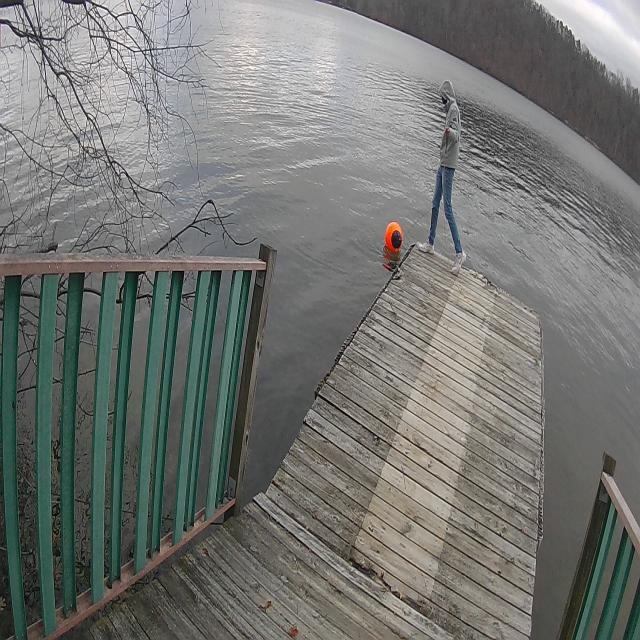Buoy: (381, 212, 407, 257)
